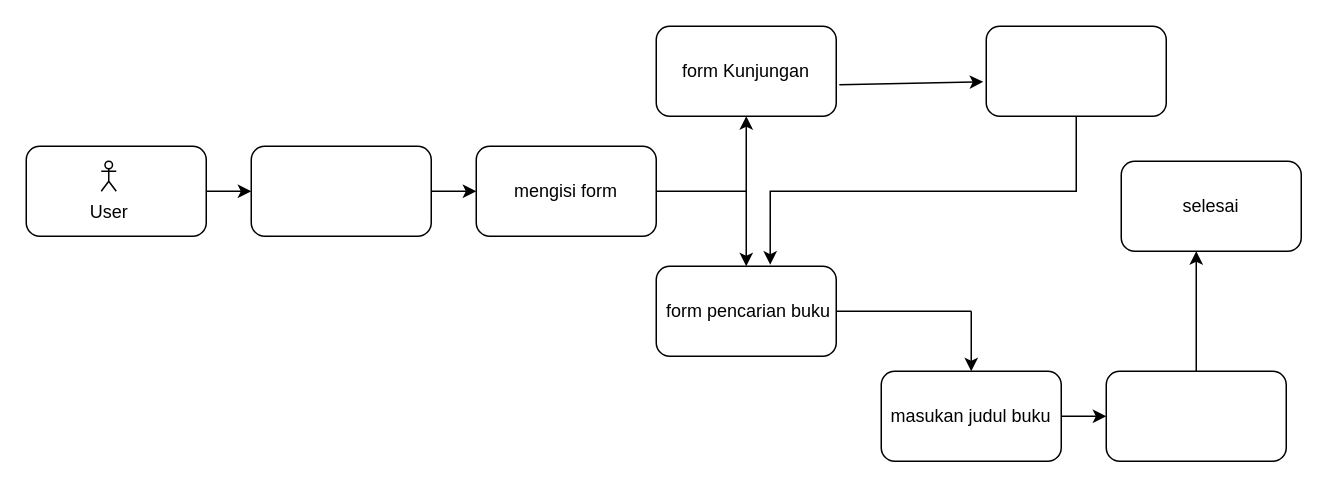
Image size: 1328x488. Some labels were removed from this diagram. Here are the shapes that lost their labels. From the top down, the centre of each, then its label:
At point 1075,70: "Daftar Kunjungan".
At point 340,190: "pengunjung perpus".
At point 1195,415: "hasil pencarian".
